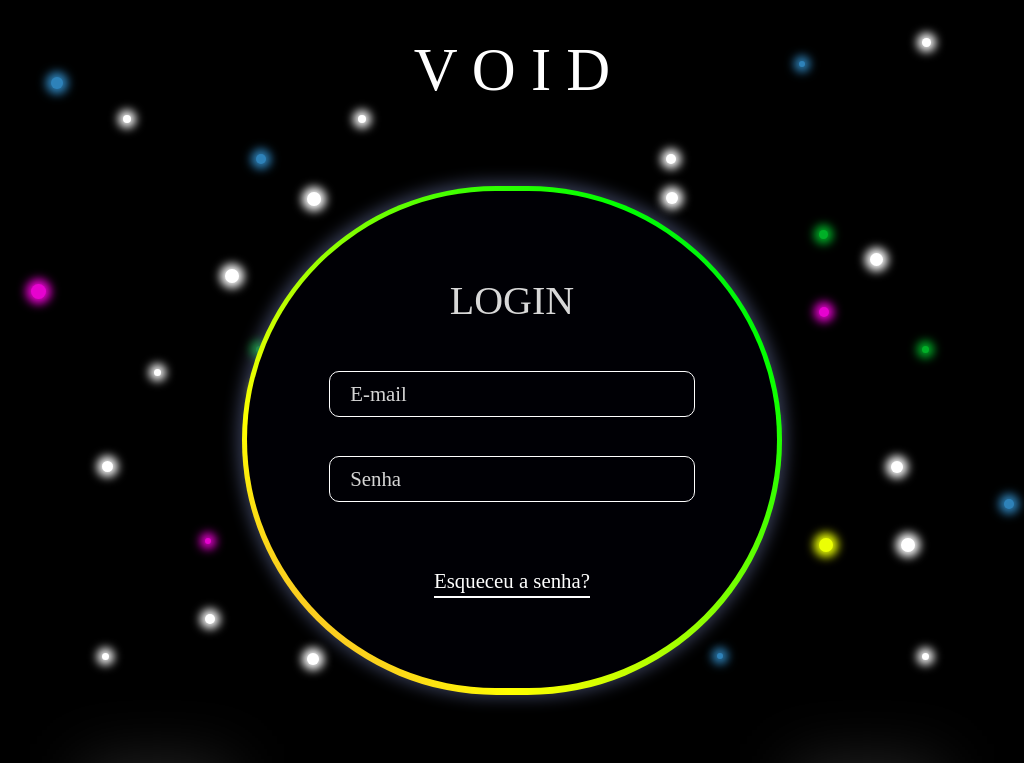
Test: Login Page Unit Testing › Should show message erros
The image size is (1024, 763).
In the field with placeholder "E-mail": (512, 394) [329,371,695,417], type "meuEmail"
(page scrolled)
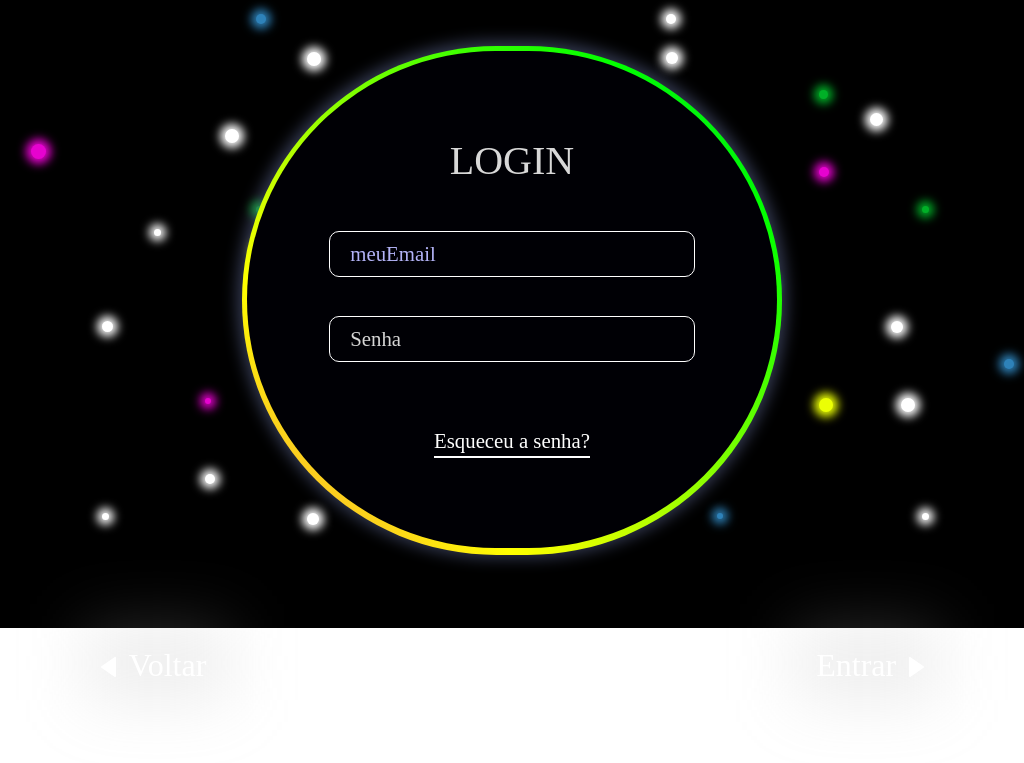
Click the button "Entrar": (867, 663) [787,623,947,703]
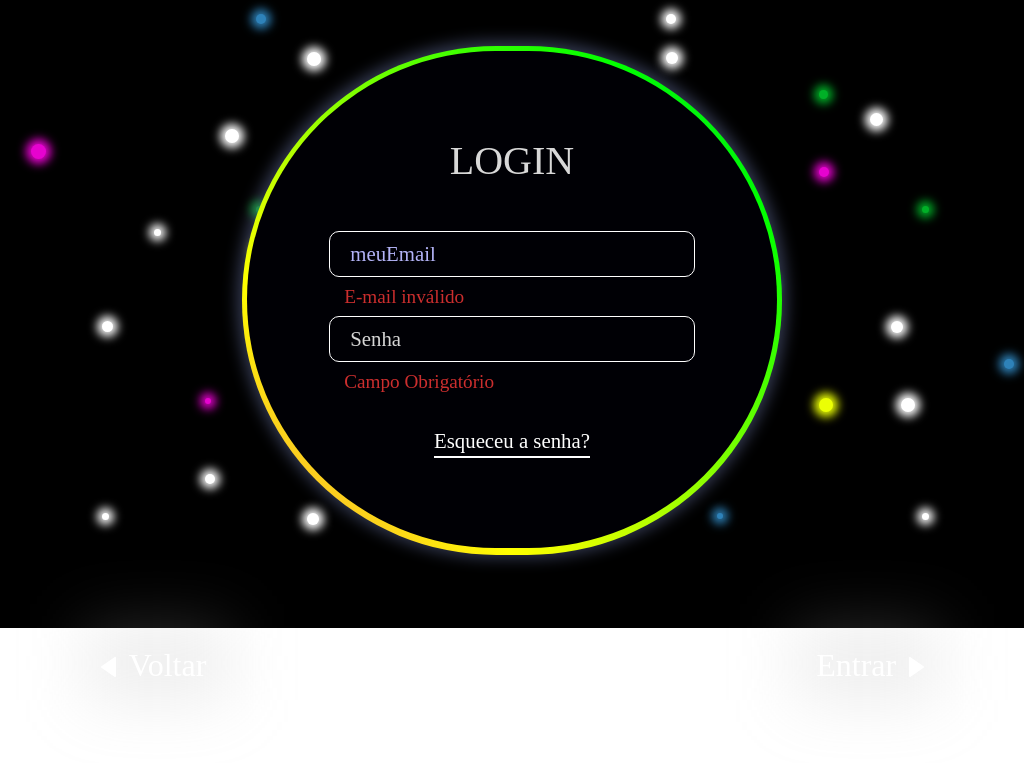
Check: the text "E-mail inválido" is shown, box [344,286,464,307]
Check: the text "Campo Obrigatório" is shown, box [344,371,494,392]
